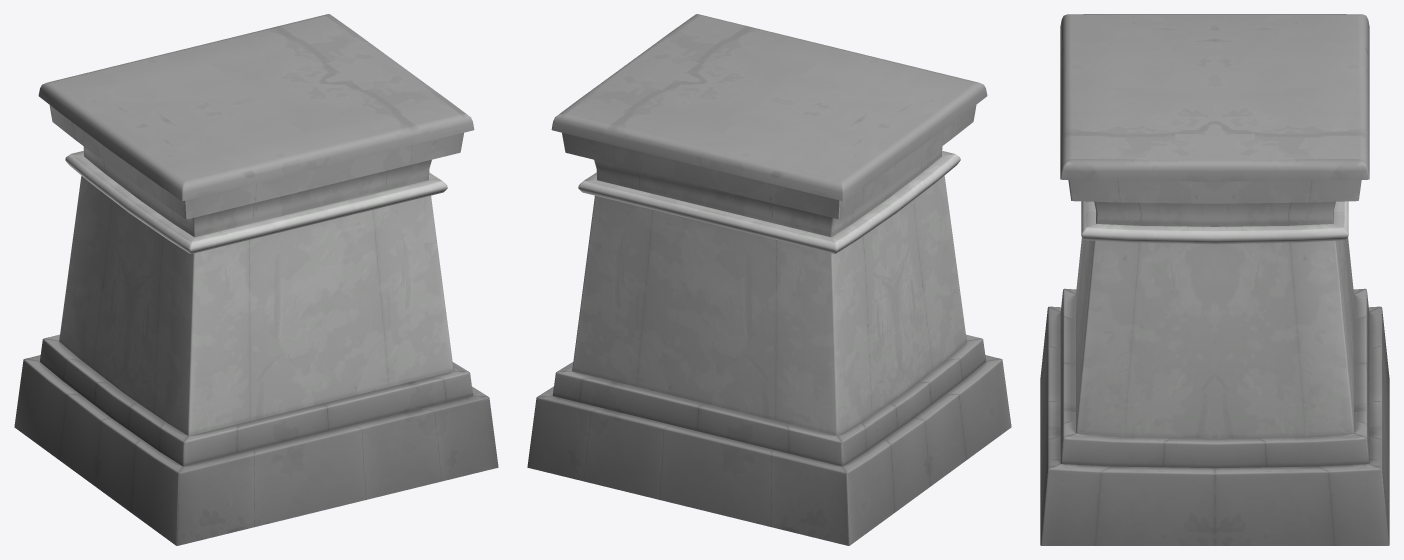
The model's file is ParkPedestal03_2.FBX.
3 renders of one model, left to right at view 1: azimuth 30°, elevation 25°; view 2: azimuth 150°, elevation 25°; view 3: azimuth 270°, elevation 25°, orthographic. The views are drawn at different scales.
Parts seen in each view (by area): view 1: ParkPedestal03_2; view 2: ParkPedestal03_2; view 3: ParkPedestal03_2.
Part boxes in pixels (bbox=[...]): ParkPedestal03_2: bbox=[14, 14, 498, 545]; ParkPedestal03_2: bbox=[527, 14, 1011, 545]; ParkPedestal03_2: bbox=[1040, 14, 1389, 545].
Size of what is drawn, in the model's own units: 2.42 by 2.5 by 2.11.
